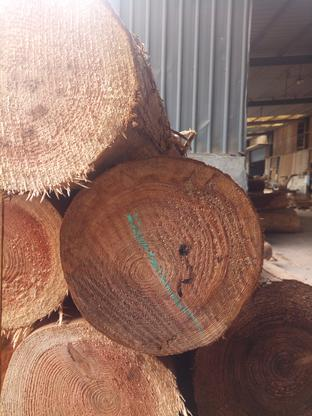mood: (58, 157, 266, 358)
